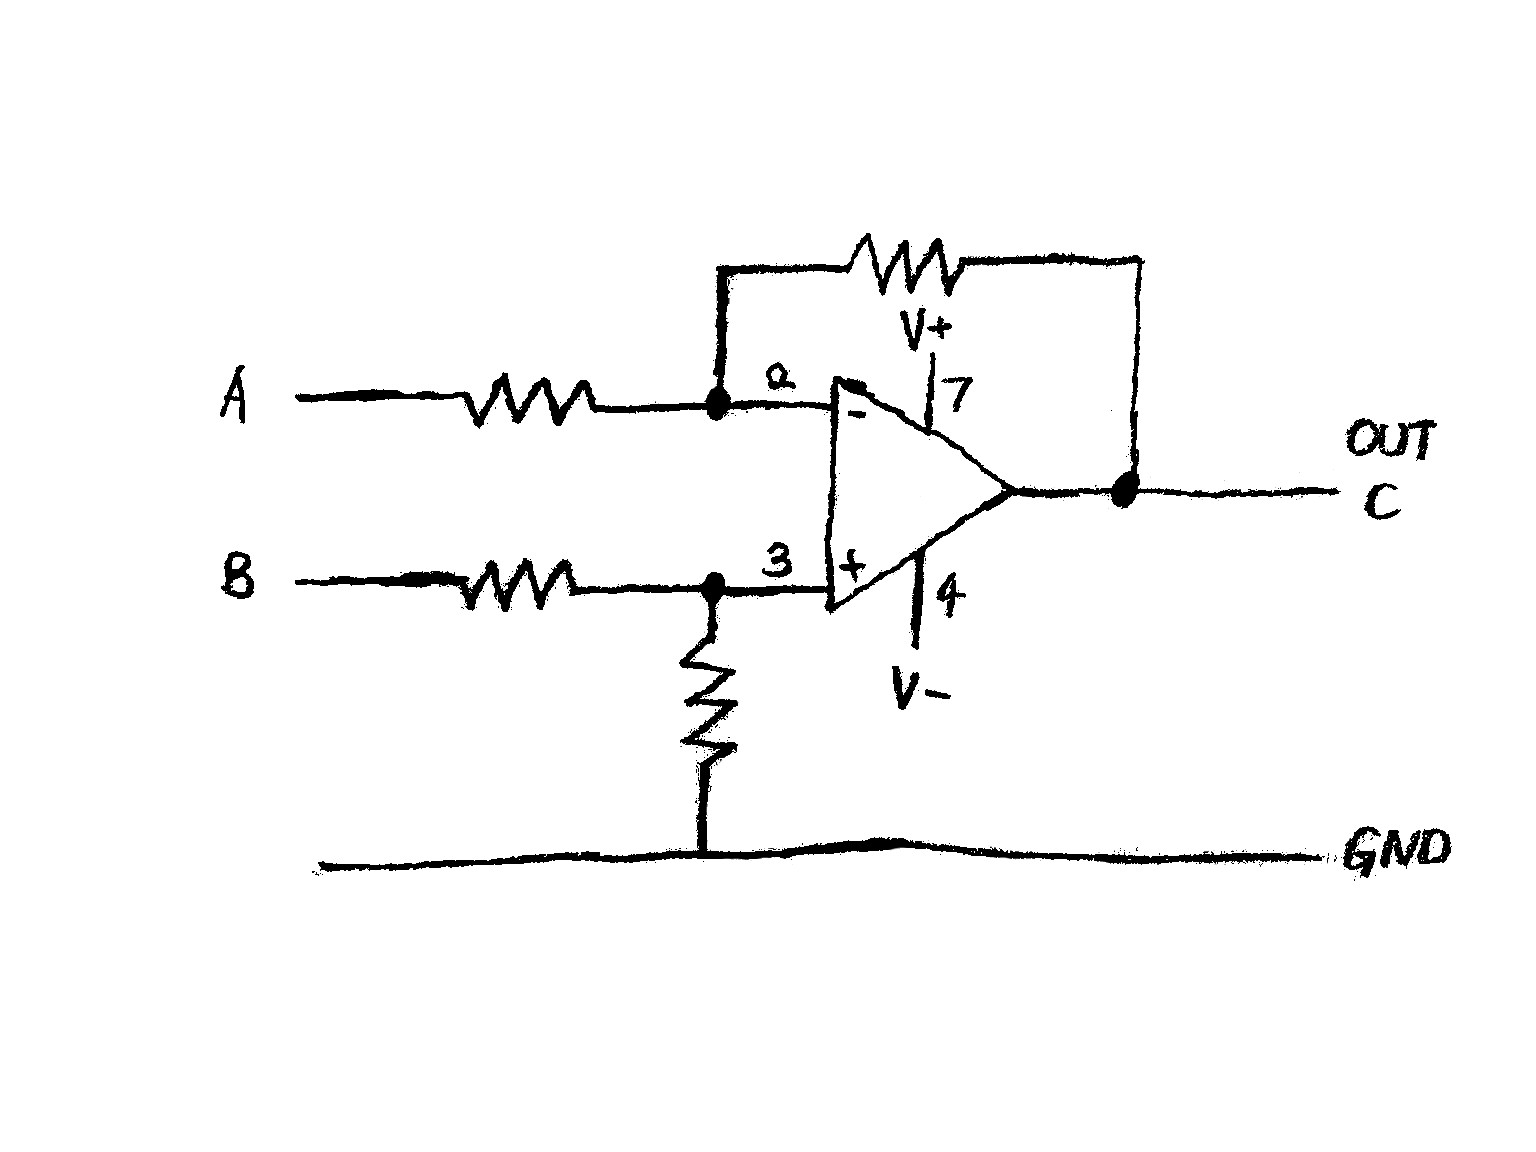junction: (1101, 456, 1159, 528), (687, 373, 739, 431), (681, 560, 737, 614), (701, 244, 755, 298), (677, 826, 727, 879), (1113, 240, 1154, 290)
operational_amplifier: (813, 369, 1024, 622)
resistor: (826, 227, 987, 299), (443, 368, 605, 430), (445, 555, 589, 624), (675, 629, 740, 774)
terminal: (279, 843, 362, 889), (282, 561, 354, 599), (1297, 472, 1356, 511), (278, 380, 341, 415), (1271, 840, 1334, 875), (903, 635, 925, 653), (923, 349, 939, 361)
text: (1340, 818, 1462, 881), (1339, 409, 1438, 467), (210, 543, 261, 609), (216, 359, 256, 427), (1359, 476, 1413, 526), (885, 659, 922, 715), (758, 537, 803, 578), (937, 371, 980, 413), (896, 303, 929, 353), (934, 572, 969, 620), (758, 356, 797, 394), (922, 676, 953, 718), (837, 545, 870, 581), (930, 310, 955, 341), (845, 401, 870, 431)
